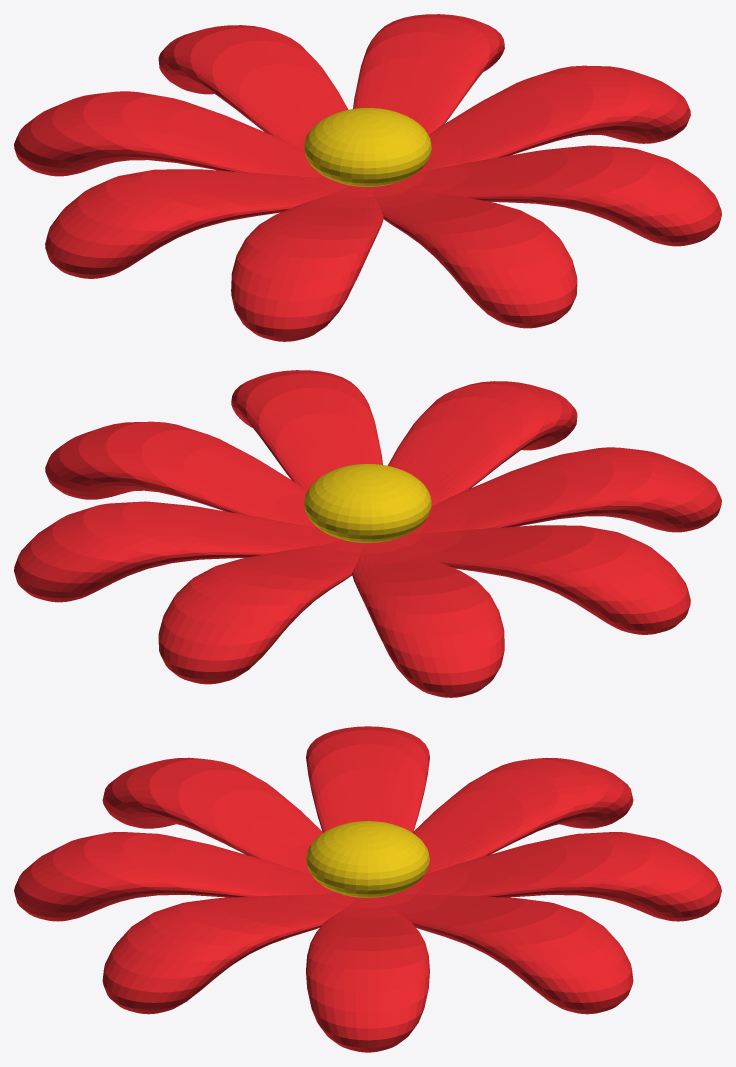
File: flower.dae
3 views of the same model, one above another, from view 1: azimuth 30°, elevation 25°; view 2: azimuth 150°, elevation 25°; view 3: azimuth 270°, elevation 25° (orthographic). The views are drawn at different scales.
Visible parts, largest first — view 1: Sphere.004, Sphere.001; view 2: Sphere.004, Sphere.001; view 3: Sphere.004, Sphere.001.
Boxes of the visible parts, x1,y1,x2,y2 form: Sphere.004: [14, 14, 721, 341]; Sphere.001: [304, 108, 431, 186]; Sphere.004: [14, 370, 721, 697]; Sphere.001: [304, 464, 431, 542]; Sphere.004: [14, 726, 721, 1052]; Sphere.001: [306, 821, 429, 897].
Bounding box in the file's own units: 11.41 × 11.41 × 1.5.
